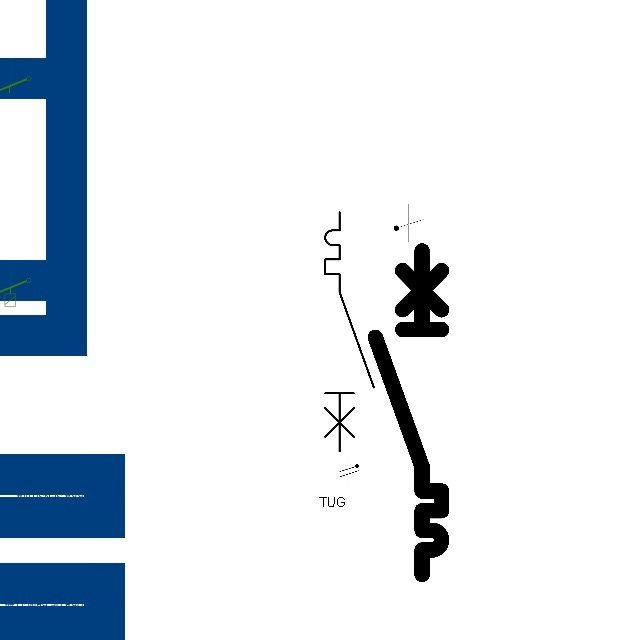interruptor_termomagnetico: (367, 242, 450, 582), (319, 206, 380, 458)
